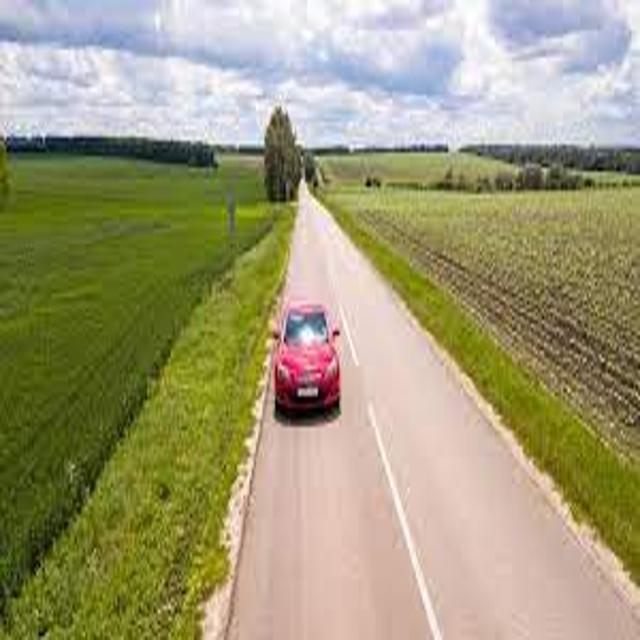car: (270, 302, 342, 411)
